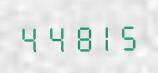eight: (66, 20, 89, 52)
five: (114, 19, 137, 51)
four: (42, 20, 65, 53), (18, 21, 41, 53)
one: (90, 19, 113, 52)
